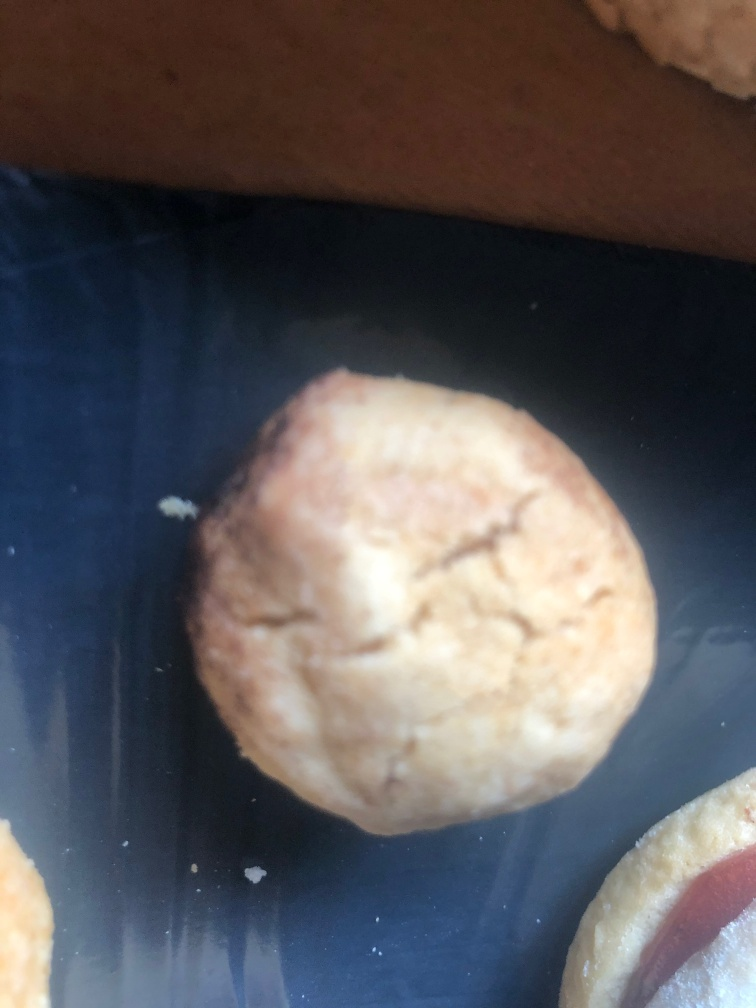snowball: (178, 365, 662, 843)
